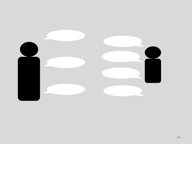left_speech: (41, 27, 86, 44), (41, 80, 86, 97), (43, 55, 85, 70)
right_speech: (100, 83, 146, 100), (102, 33, 145, 49), (99, 66, 143, 81), (100, 50, 144, 64)
